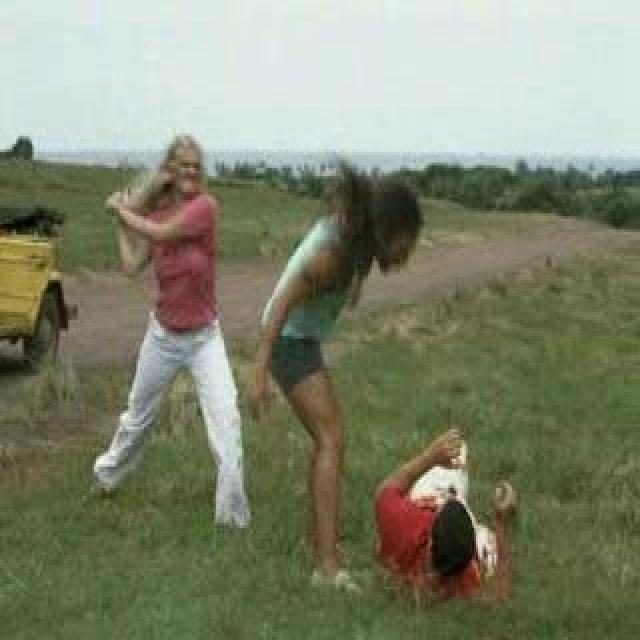fight: (92, 72, 526, 640)
